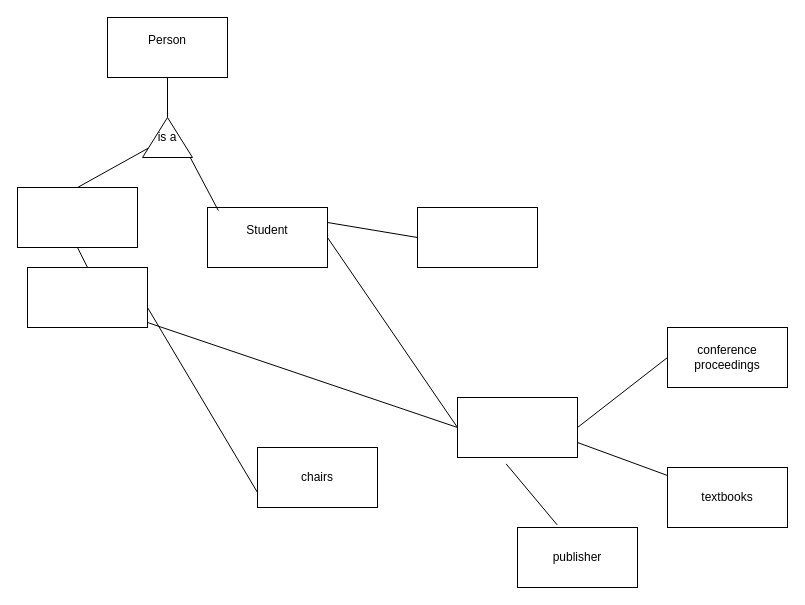
Some shapes in this 805 by 605 pixel diagram are drawn without their labels. The shapes that lost their labels are listed below. From the top down, each one's centre as x and y in pixels, then its label:
(77,217): employee
(477,237): Course
(87,297): professor
(517,427): Books
